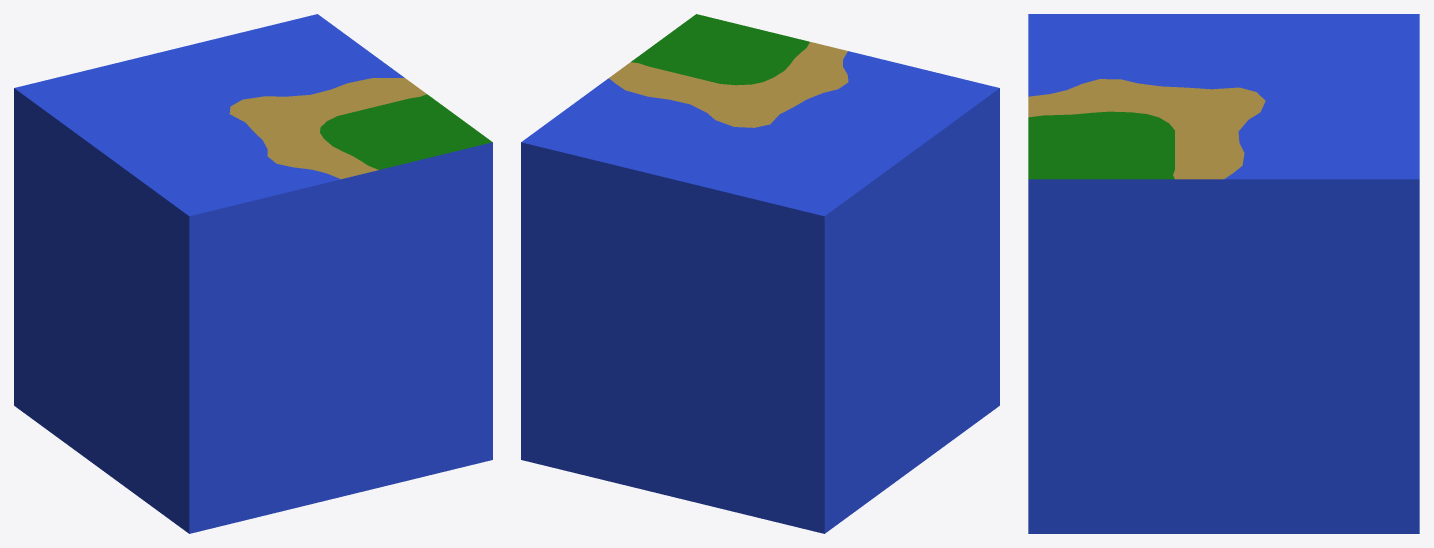
The model's file is CoastCorner3.fbx.
3 views of the same model, side by side, from view 1: azimuth 30°, elevation 25°; view 2: azimuth 150°, elevation 25°; view 3: azimuth 270°, elevation 25° (orthographic). The views are drawn at different scales.
Visible parts, largest first — view 1: Cube.005; view 2: Cube.005; view 3: Cube.005.
Boxes of the visible parts, left/top/right/bottom form: Cube.005: left=14, top=14, right=492, bottom=533; Cube.005: left=521, top=14, right=999, bottom=533; Cube.005: left=1028, top=14, right=1419, bottom=533.
Bounding box in the file's own units: 100 × 100 × 100.
